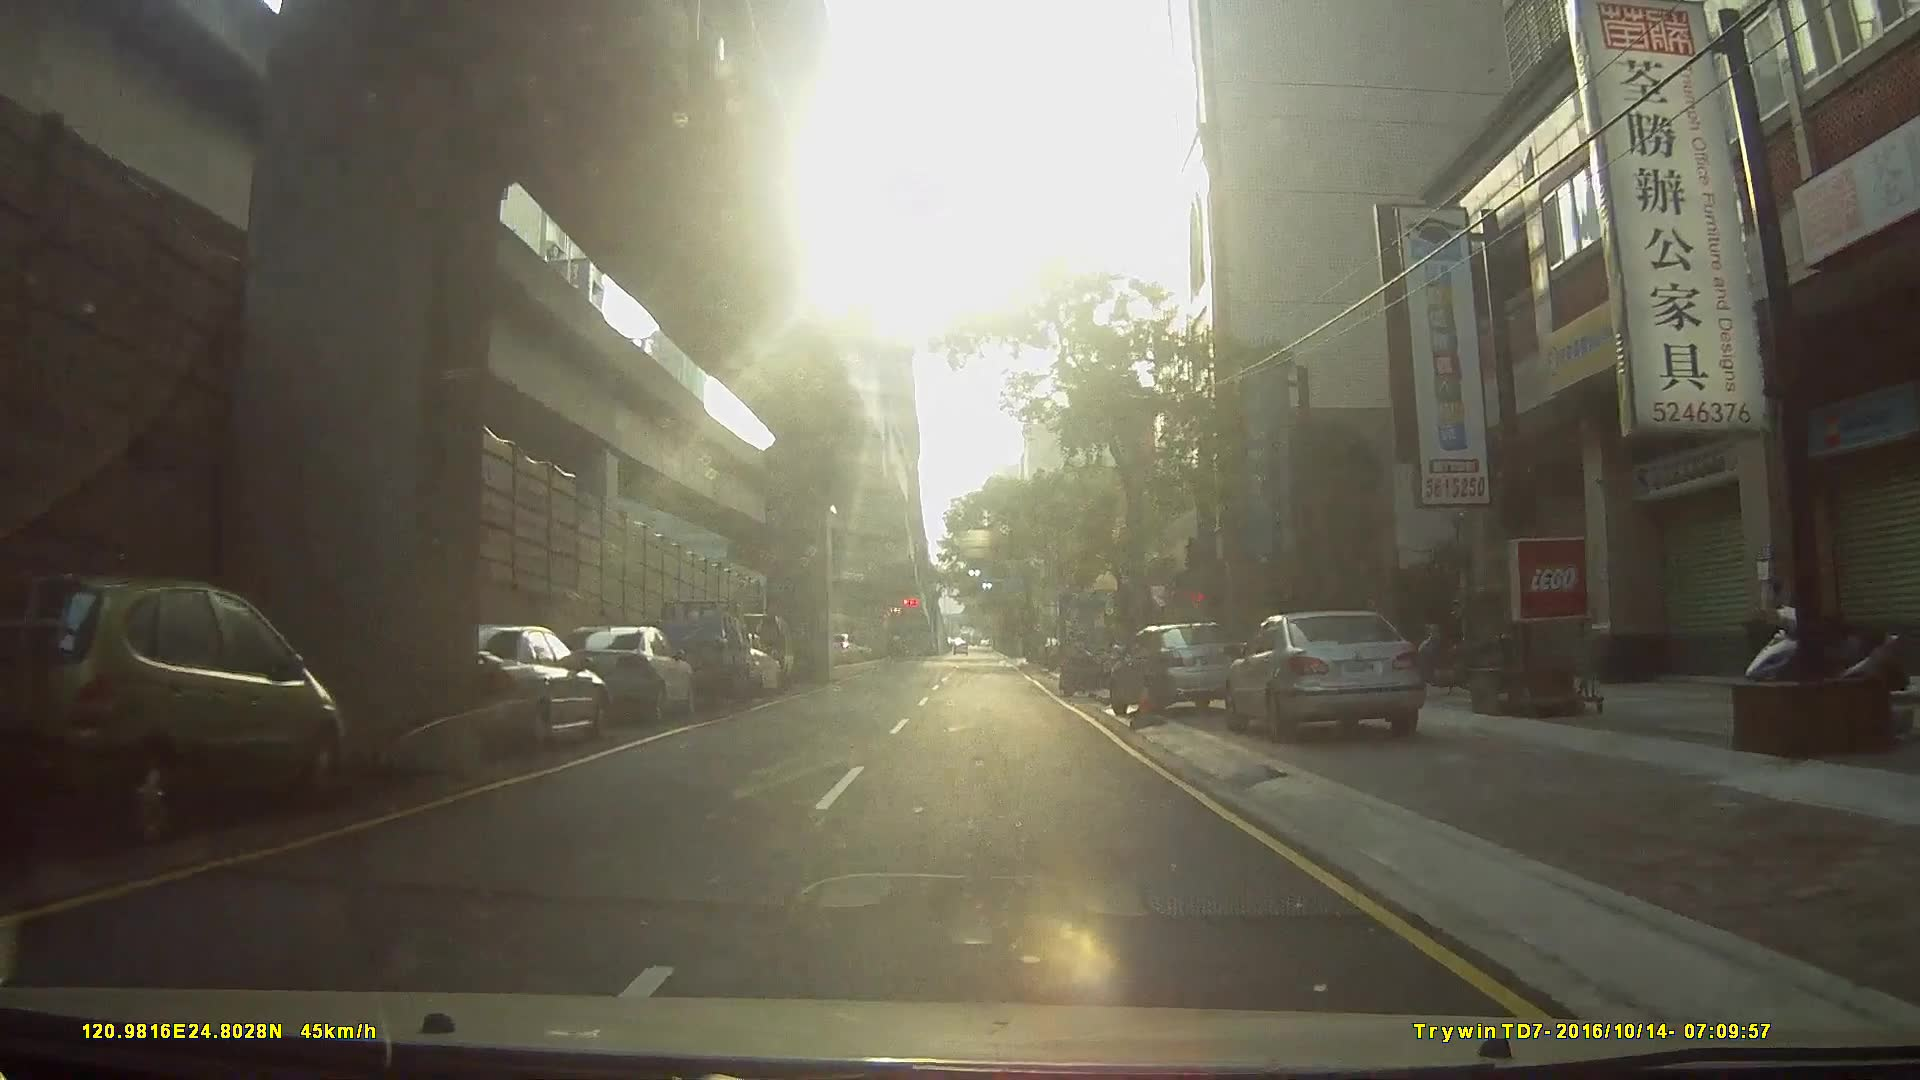rider: (1058, 628, 1115, 696)
vehicle: (1, 580, 348, 848), (1231, 608, 1439, 748), (414, 621, 606, 762), (1107, 618, 1256, 721), (544, 623, 694, 725), (634, 597, 752, 712)
